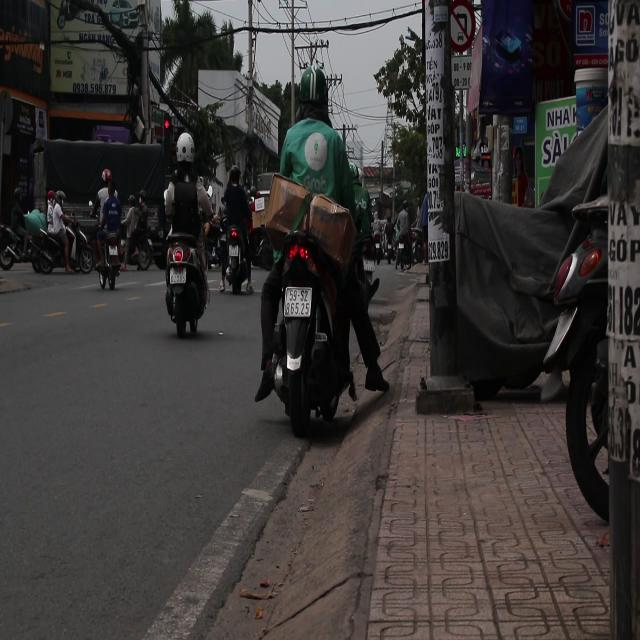motorbike: (255, 211, 359, 438), (162, 230, 209, 338), (30, 212, 90, 282), (84, 190, 121, 295), (215, 202, 251, 293), (128, 205, 154, 277)
